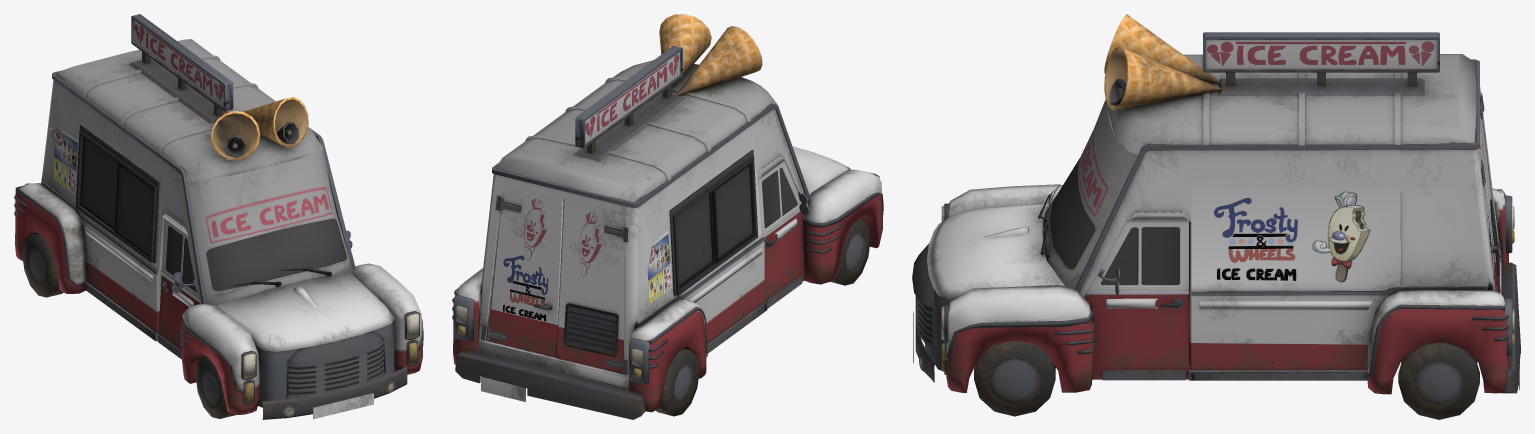
Rendered from enemy 3 rod van.glb.
3 views of the same model, side by side, from view 1: azimuth 30°, elevation 25°; view 2: azimuth 150°, elevation 25°; view 3: azimuth 270°, elevation 25° (orthographic). The views are drawn at different scales.
Parts seen in each view (by area): view 1: cuerpo.001_2, Puerta_der_furgoneta1.001_60, Ventanas.001_66, Ventanas 1.001_69, Ruedas_furgoneta_detras.001_74, Ruedas_furgoneta.001_73, faros.001_3, Marco.001_65, Marco 1.001_68; view 2: cuerpo.001_2, Puerta_IZQ.001_61, Puerta_DER.001_56, Puerta_der_furgoneta1.001_60, Ventanas.001_66, Ventanas 1.001_69, Ruedas_furgoneta_detras.001_74, Ruedas_furgoneta.001_73, Marco.001_65, Marco 1.001_68; view 3: cuerpo.001_2, Puerta_der_conductor.001_59, Ruedas_furgoneta_detras.001_74, Ruedas_furgoneta.001_73, Puerta_DER.001_56, Puerta_IZQ.001_61.
Boxes of the visible parts, box(x1,y1,x2,y2) form: cuerpo.001_2: box(14, 14, 423, 419); Puerta_der_furgoneta1.001_60: box(158, 218, 200, 359); Ventanas.001_66: box(117, 167, 153, 253); Ventanas 1.001_69: box(83, 139, 117, 226); Ruedas_furgoneta_detras.001_74: box(22, 233, 63, 297); Ruedas_furgoneta.001_73: box(195, 356, 235, 418); faros.001_3: box(244, 313, 418, 404); Marco.001_65: box(114, 163, 153, 257); Marco 1.001_68: box(80, 137, 115, 230); cuerpo.001_2: box(452, 14, 883, 419); Puerta_IZQ.001_61: box(486, 184, 563, 357); Puerta_DER.001_56: box(556, 199, 624, 373); Puerta_der_furgoneta1.001_60: box(758, 161, 809, 308); Ventanas.001_66: box(715, 166, 752, 257); Ventanas 1.001_69: box(676, 194, 712, 284); Ruedas_furgoneta_detras.001_74: box(656, 348, 699, 416); Ruedas_furgoneta.001_73: box(830, 219, 870, 285); Marco.001_65: box(711, 162, 755, 263); Marco 1.001_68: box(677, 191, 715, 288); cuerpo.001_2: box(912, 14, 1520, 394); Puerta_der_conductor.001_59: box(1084, 221, 1188, 380); Ruedas_furgoneta_detras.001_74: box(1398, 342, 1479, 419); Ruedas_furgoneta.001_73: box(974, 341, 1055, 416); Puerta_DER.001_56: box(1480, 96, 1501, 292); Puerta_IZQ.001_61: box(1479, 129, 1500, 291).
Bounding box in the file's own units: 36.6 × 45.43 × 76.46.
4 materials, 4 textured.
